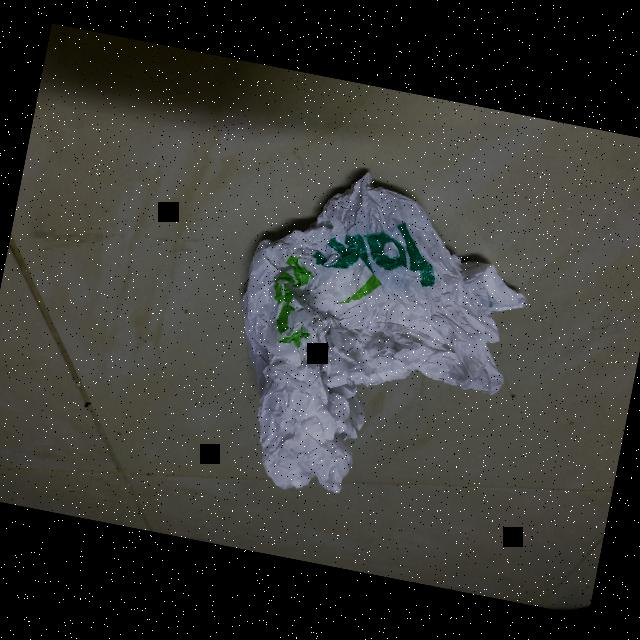plastic_bag: (200, 144, 557, 536)
